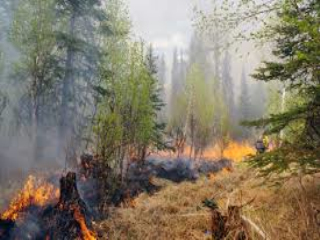fire: (171, 128, 258, 164), (4, 171, 57, 225)
